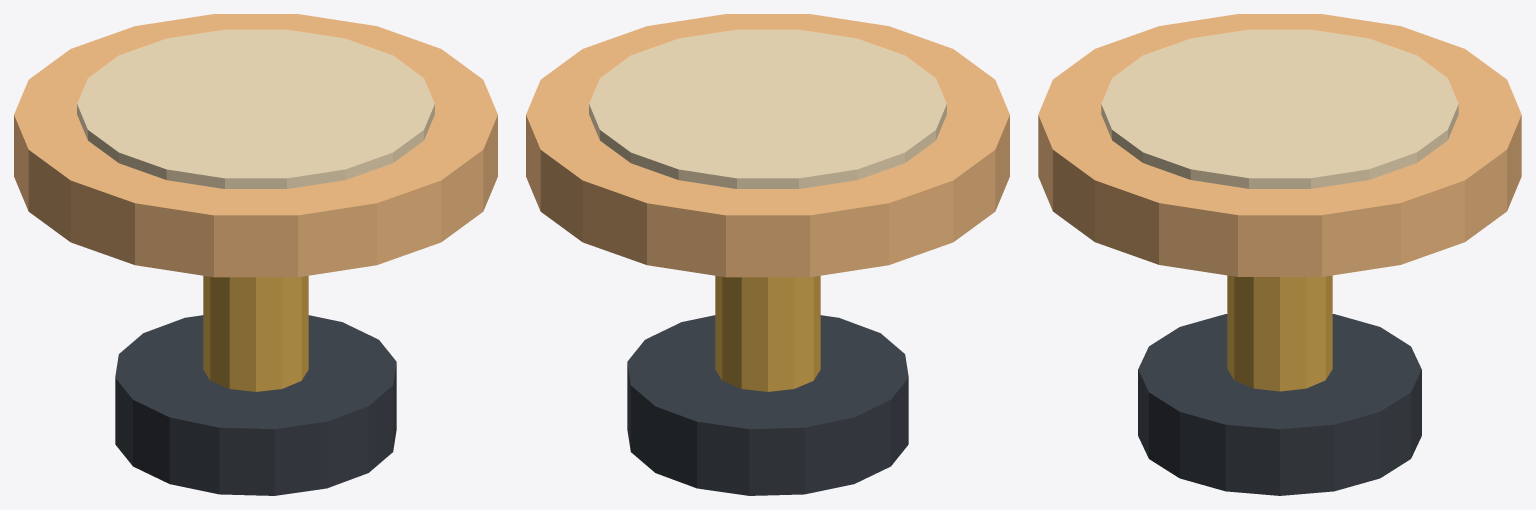
File: SideTable.fbx
3 renders of one model, left to right at view 1: azimuth 30°, elevation 25°; view 2: azimuth 150°, elevation 25°; view 3: azimuth 270°, elevation 25°, orthographic.
Visible parts, largest first — view 1: Side_Top, Side_Inlay, Side_Base, Side_Stem; view 2: Side_Top, Side_Inlay, Side_Base, Side_Stem; view 3: Side_Top, Side_Inlay, Side_Base, Side_Stem.
Part boxes in pixels (box(x1,y1,x2,y2)): Side_Top: box(14, 14, 497, 277); Side_Inlay: box(77, 29, 434, 188); Side_Base: box(115, 315, 396, 495); Side_Stem: box(203, 275, 308, 391); Side_Top: box(526, 14, 1009, 277); Side_Inlay: box(589, 29, 946, 188); Side_Base: box(627, 315, 908, 495); Side_Stem: box(715, 275, 820, 391); Side_Top: box(1038, 14, 1521, 276); Side_Inlay: box(1101, 29, 1458, 188); Side_Base: box(1138, 314, 1421, 495); Side_Stem: box(1227, 275, 1332, 391).
Bounding box in the file's own units: 90.6 × 69.75 × 92.
